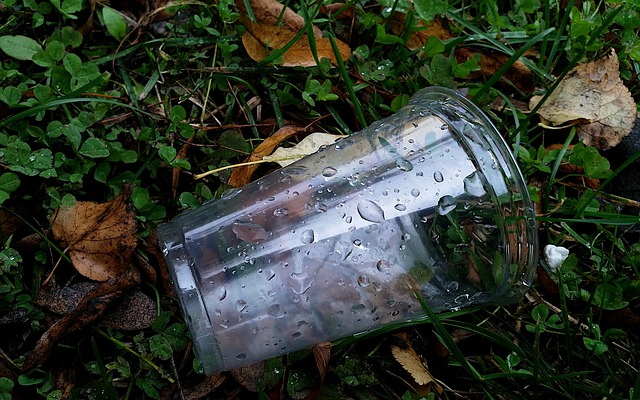cup: (144, 78, 544, 381)
